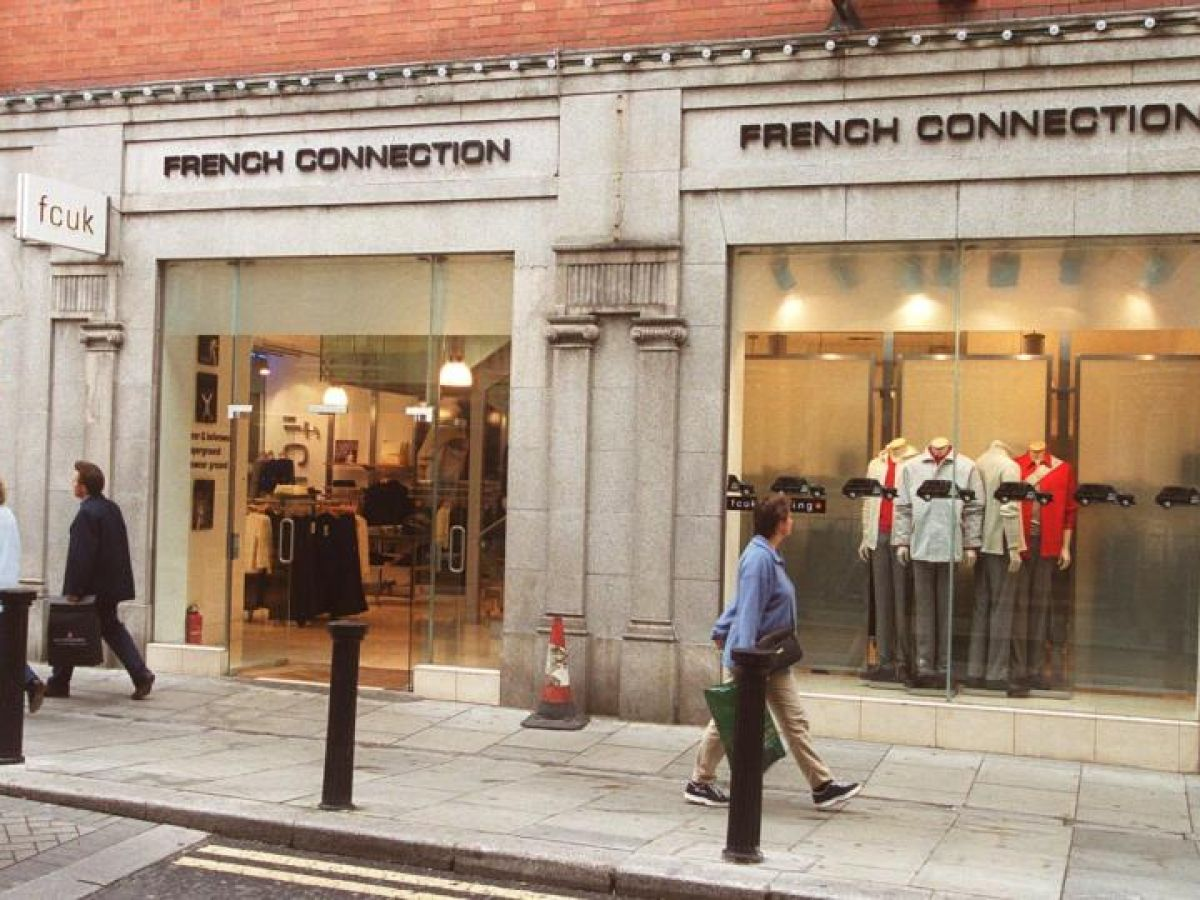Person: (699, 500, 831, 804), (49, 468, 163, 686)
